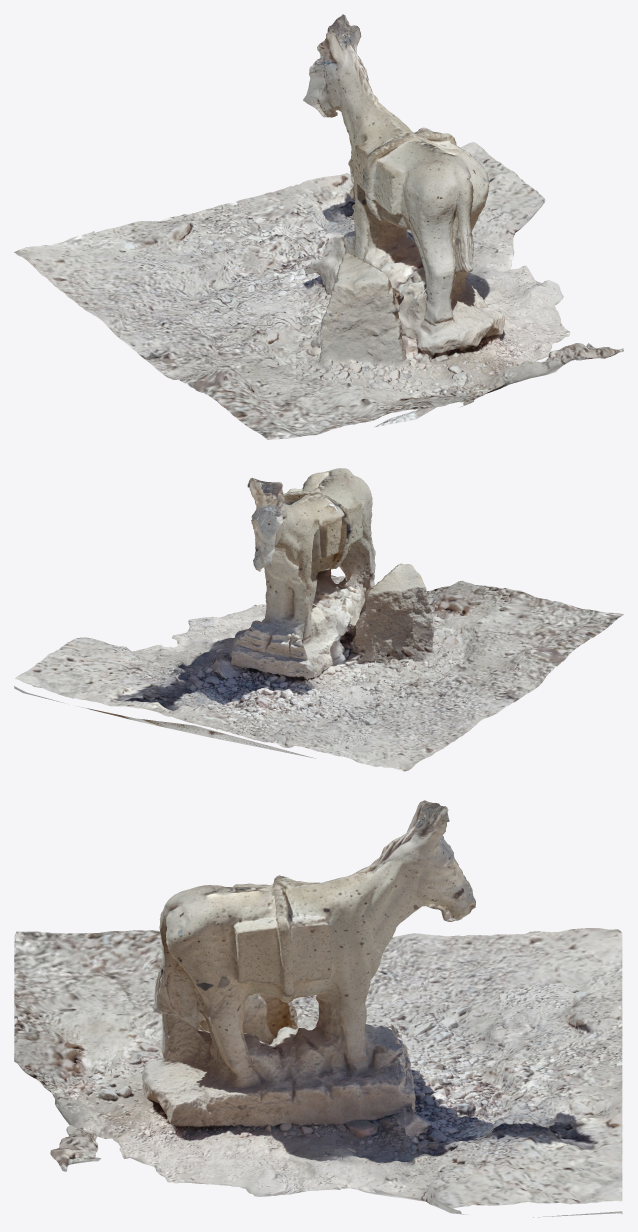
Rendered from donkey_sillar_polycam.glb.
The picture shows the model from 3 angles, top to bottom: view 1: azimuth 30°, elevation 25°; view 2: azimuth 150°, elevation 25°; view 3: azimuth 270°, elevation 25°; orthographic projection. The views are drawn at different scales.
Parts seen in each view (by area): view 1: Object_4; view 2: Object_4; view 3: Object_4.
Part boxes in pixels (x1,y1,x2,y2): Object_4: (14, 14, 623, 439); Object_4: (14, 468, 623, 771); Object_4: (14, 800, 622, 1217).
Bounding box in the file's own units: 0.8217 × 0.4498 × 0.7907.
Materials: 1 (1 with a texture image).
